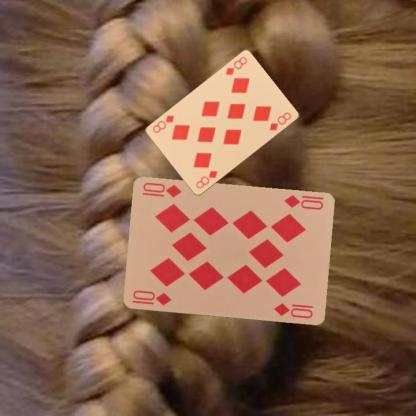10d: (282, 192, 324, 212), (130, 288, 172, 307)
8d: (223, 54, 248, 77), (193, 168, 218, 190)
